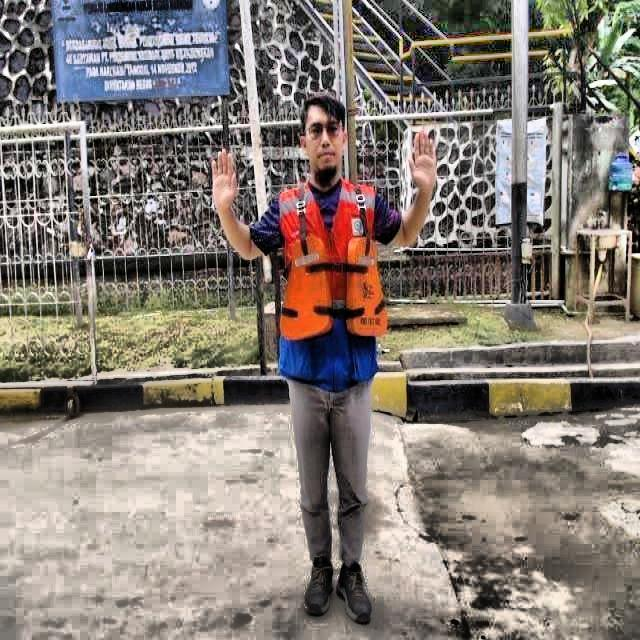safety_jacket: (275, 181, 390, 387)
